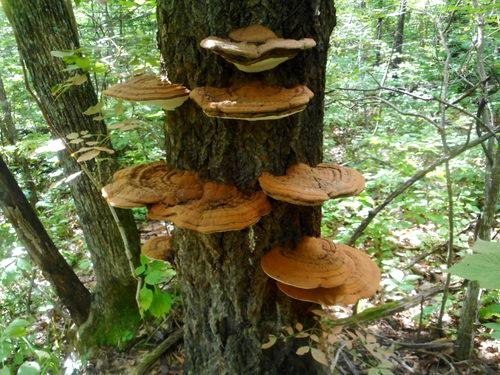Ganoderma - Fruit Body: (105, 158, 259, 234), (262, 234, 385, 305), (192, 78, 313, 123), (260, 157, 368, 207), (204, 25, 315, 72), (105, 70, 189, 115), (142, 236, 178, 268)
